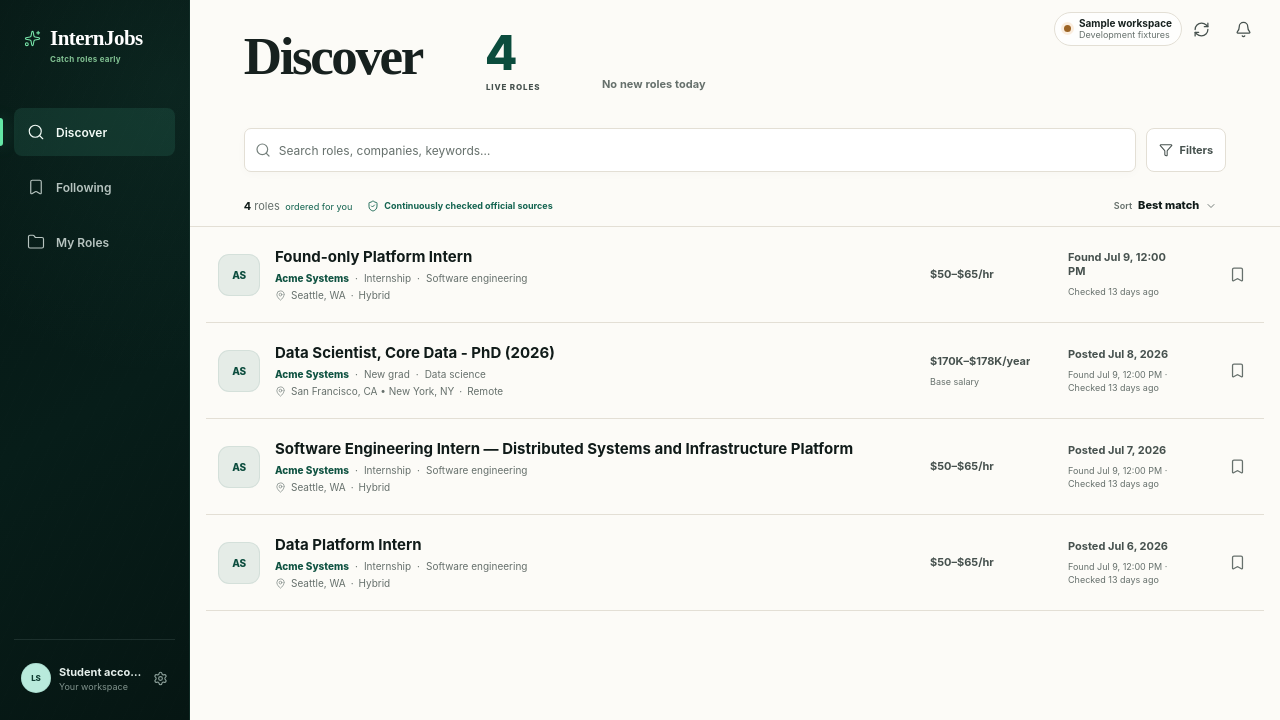
it: student workspace › shows extracted Figma base salary and remote eligibility while preserving office locations
The width and height of the screenshot is (1280, 720).
Expected: the list item "Data Scientist, Core Data - PhD (2026)" is shown, [206,323,1264,419]
Expected: the text "$170K–$178K/year" is shown, [930,354,1030,368]
Step 1. Click the button "Data Scientist, Core Data - PhD (2026)" → (415, 353), box [275,344,555,362]
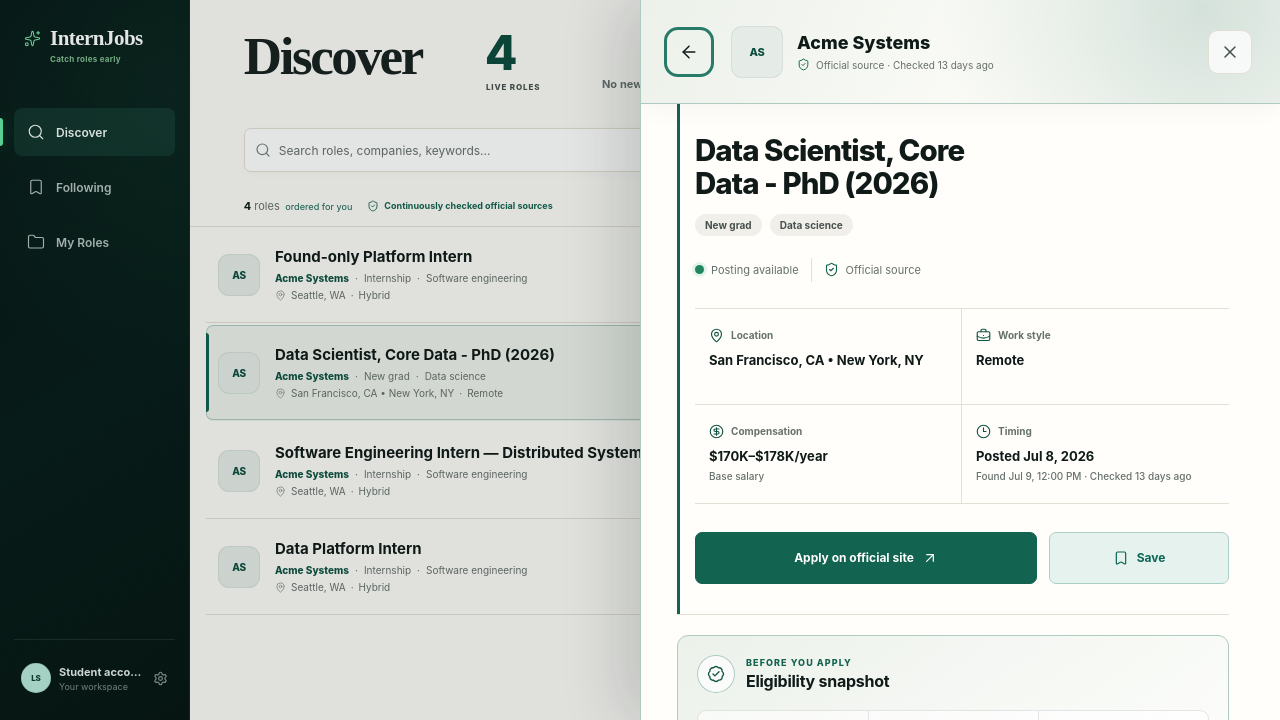
Now the text "$170K–$178K/year" is shown, box [709,448,828,464]
Now the text "Base salary" is shown, box [709,470,764,482]
Now the text "Data science" is shown, box [770,214,853,236]
